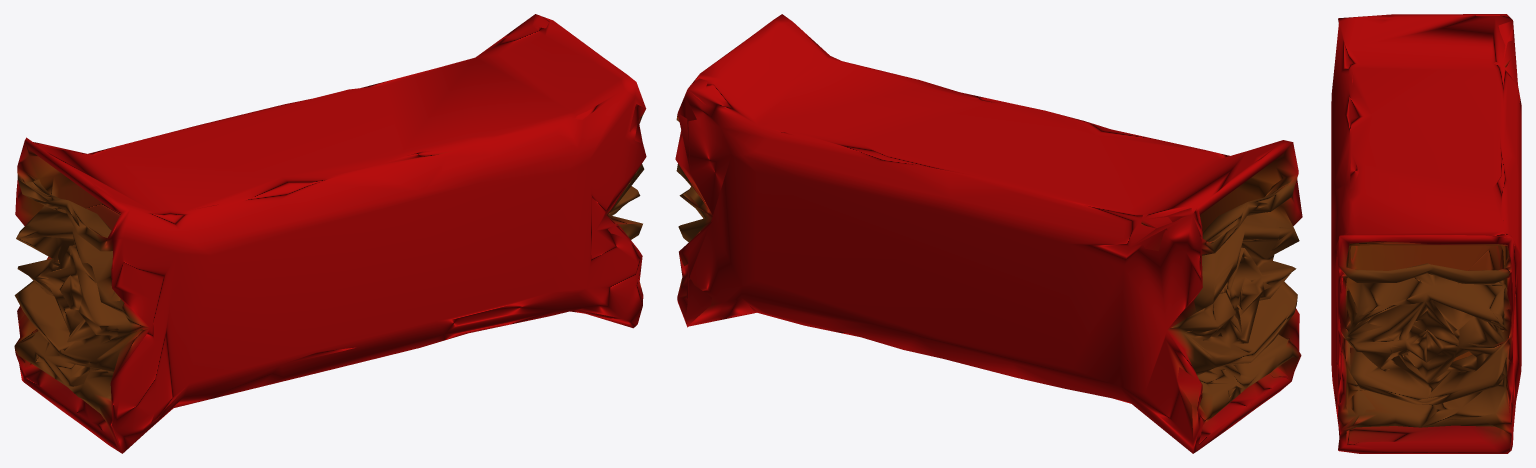
File: gen3d-candy-bar-lod0.glb
3 views of the same model, side by side, from view 1: azimuth 30°, elevation 25°; view 2: azimuth 150°, elevation 25°; view 3: azimuth 270°, elevation 25° (orthographic). The views are drawn at different scales.
Parts seen in each view (by area): view 1: part_0; view 2: part_0; view 3: part_0.
Boxes of the visible parts, bbox=[...] form: part_0: bbox=[14, 14, 646, 453]; part_0: bbox=[675, 14, 1302, 453]; part_0: bbox=[1331, 14, 1521, 453].
Bounding box in the file's own units: 2.3 × 0.9984 × 0.7888.
